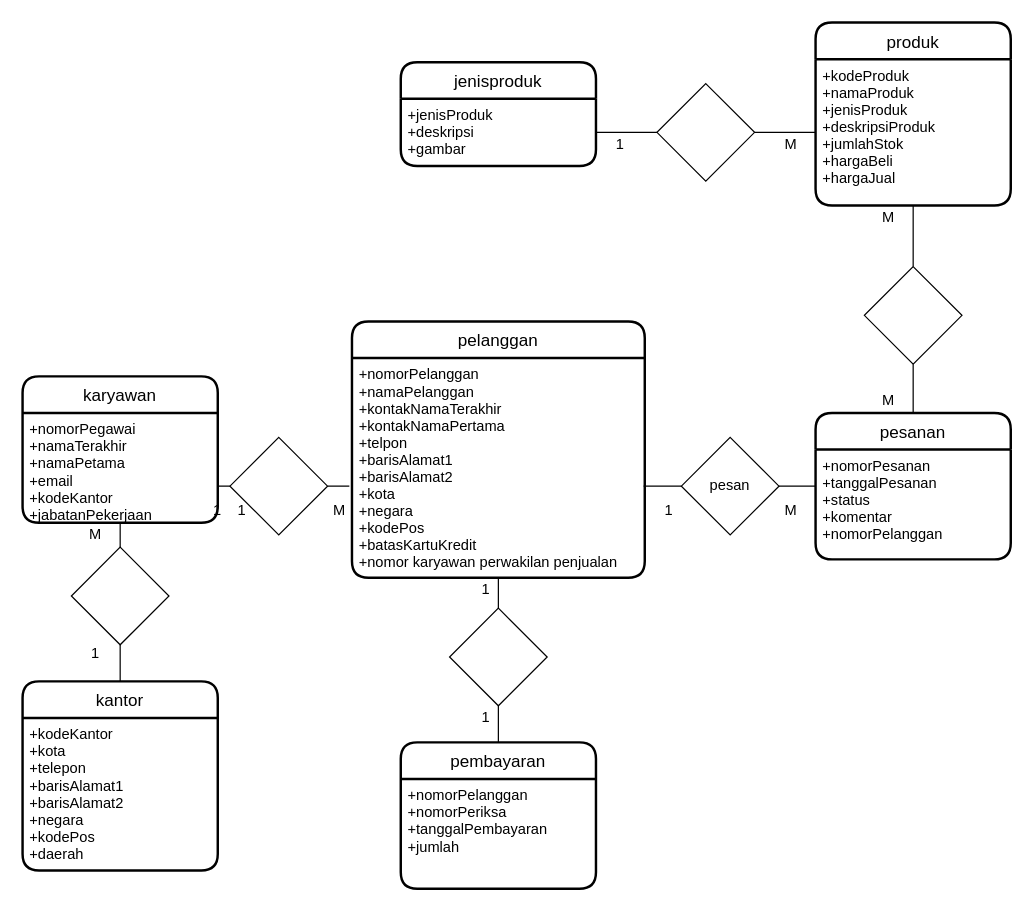
This 1032x910 diagram has some shape labels left out. Here are the shapes that lost their labels. From the top down, the centre of each, then its label:
At pixel 705 131: "detail".
At pixel 912 314: "catat".
At pixel 278 485: "tugas".
At pixel 497 656: "bayar".
